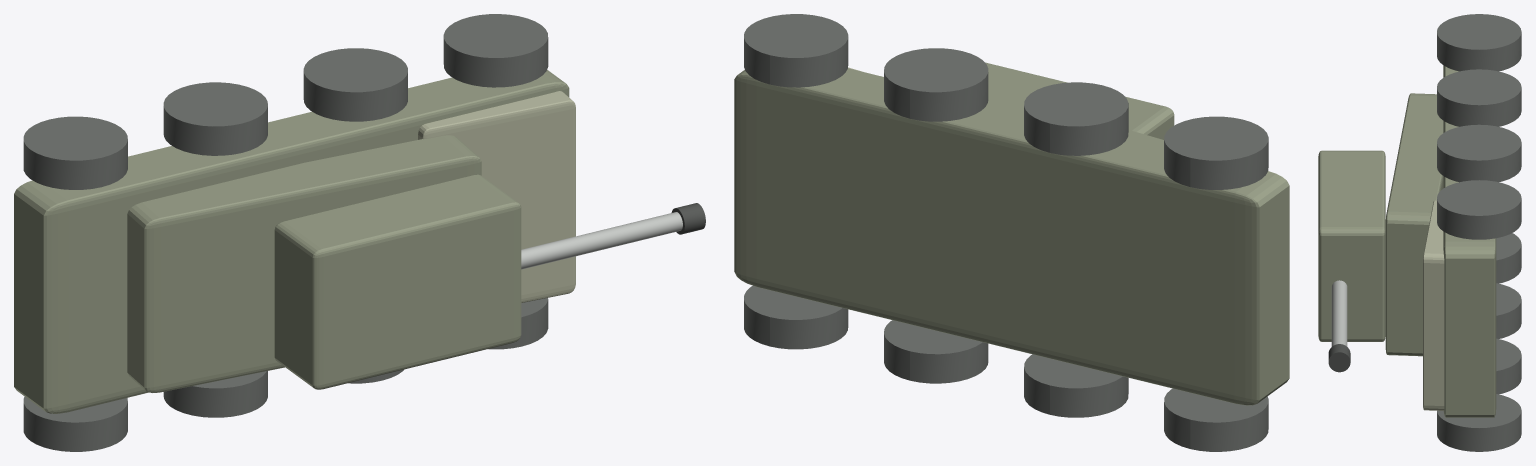
Rendered from v-u12-vanguard-assault-vehicle-lod1.glb.
3 renders of one model, left to right at view 1: azimuth 30°, elevation 25°; view 2: azimuth 150°, elevation 25°; view 3: azimuth 270°, elevation 25°, orthographic. The views are drawn at different scales.
Parts seen in each view (by area): view 1: assault_turret, chassis_lower, upper_hull, chassis_nose, chassis_wheel_1_3, chassis_wheel_1_0, chassis_wheel_1_2, chassis_wheel_1_1, chassis_wheel_-1_0, chassis_wheel_-1_1, autocannon_barrel_0, chassis_wheel_-1_3 (+1 smaller); view 2: chassis_lower, chassis_wheel_1_1, chassis_wheel_1_2, chassis_wheel_1_0, chassis_wheel_1_3, chassis_wheel_-1_0, chassis_wheel_-1_1, chassis_wheel_-1_3, chassis_wheel_-1_2, assault_turret, upper_hull; view 3: assault_turret, upper_hull, chassis_lower, chassis_wheel_1_3, chassis_wheel_1_0, chassis_wheel_1_2, chassis_wheel_1_1, chassis_nose, chassis_wheel_-1_3, chassis_wheel_-1_1, chassis_wheel_-1_2, chassis_wheel_-1_0 (+2 smaller).
Boxes of the visible parts, x1,y1,x2,y2 form: assault_turret: (274, 174, 521, 389); chassis_lower: (14, 70, 569, 413); upper_hull: (127, 135, 481, 392); chassis_nose: (418, 91, 575, 302); chassis_wheel_1_3: (443, 14, 548, 87); chassis_wheel_1_0: (23, 116, 127, 189); chassis_wheel_1_2: (303, 48, 407, 121); chassis_wheel_1_1: (163, 82, 267, 155); chassis_wheel_-1_0: (23, 396, 127, 451); chassis_wheel_-1_1: (163, 371, 267, 417); autocannon_barrel_0: (521, 212, 682, 269); chassis_wheel_-1_3: (488, 298, 548, 349); chassis_lower: (734, 68, 1289, 405); chassis_wheel_1_1: (1024, 82, 1128, 155); chassis_wheel_1_2: (884, 48, 988, 121); chassis_wheel_1_0: (1164, 116, 1268, 189); chassis_wheel_1_3: (744, 14, 848, 87); chassis_wheel_-1_0: (1164, 388, 1268, 451); chassis_wheel_-1_1: (1024, 354, 1128, 417); chassis_wheel_-1_3: (744, 285, 848, 349); chassis_wheel_-1_2: (884, 320, 988, 383); assault_turret: (985, 62, 1174, 139); upper_hull: (988, 89, 1163, 145); assault_turret: (1318, 150, 1385, 341); upper_hull: (1385, 93, 1443, 356); chassis_lower: (1443, 65, 1496, 417); chassis_wheel_1_3: (1437, 180, 1521, 239); chassis_wheel_1_0: (1437, 14, 1521, 71); chassis_wheel_1_2: (1437, 124, 1521, 182); chassis_wheel_1_1: (1437, 69, 1521, 126); chassis_nose: (1423, 200, 1444, 410); chassis_wheel_-1_3: (1437, 394, 1521, 451); chassis_wheel_-1_1: (1496, 283, 1521, 338); chassis_wheel_-1_2: (1496, 338, 1521, 394); chassis_wheel_-1_0: (1496, 233, 1521, 283).
Size of what is drawn, in the model's own units: 6.3 by 2.98 by 2.32.
